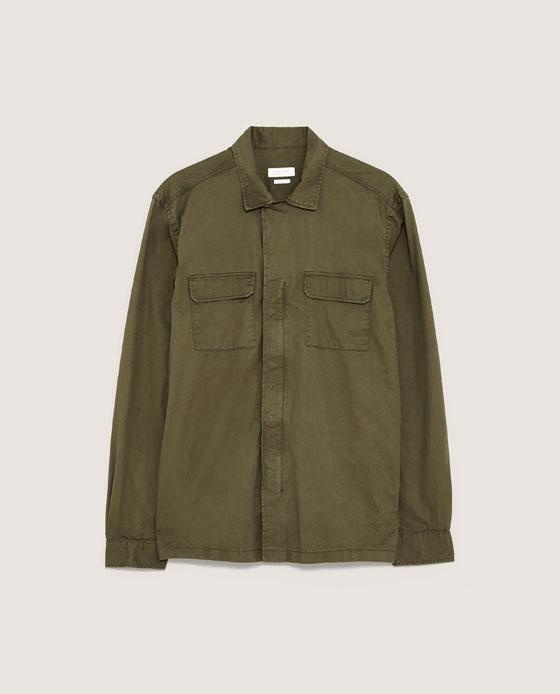teeshirt: (105, 114, 472, 575)
